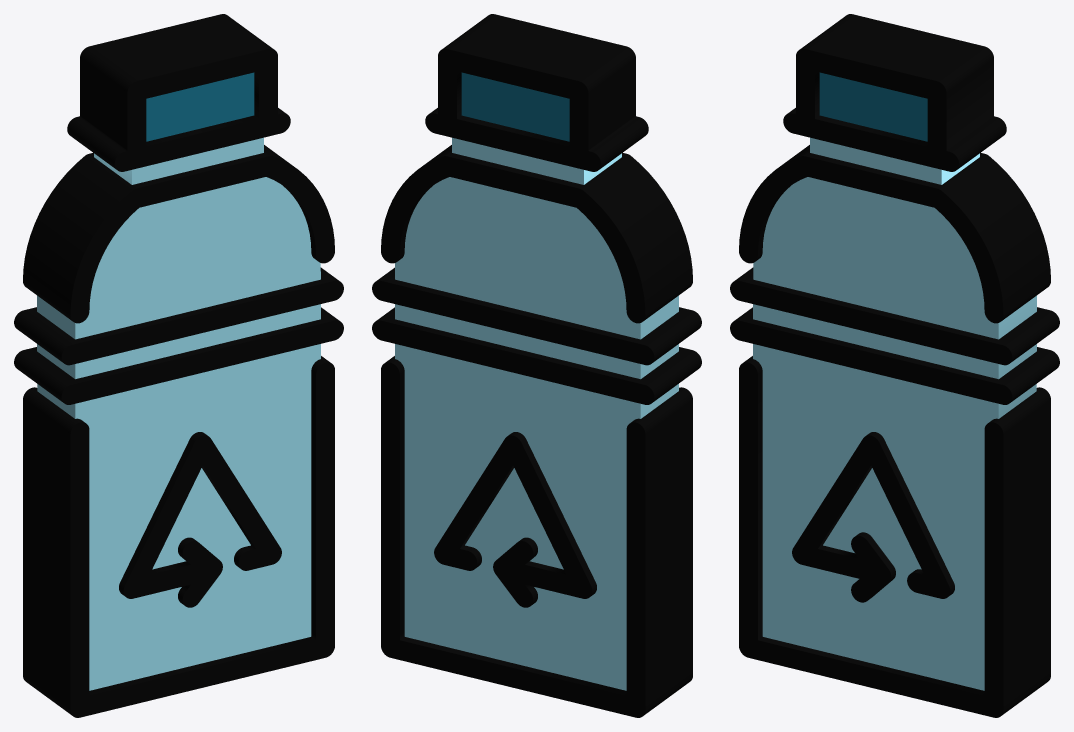
The model's file is Plastic Bottle.fbx.
3 views of the same model, side by side, from view 1: azimuth 30°, elevation 25°; view 2: azimuth 150°, elevation 25°; view 3: azimuth 330°, elevation 25° (orthographic).
Visible parts, largest first — view 1: Curve, Curve.002, Curve.006, Curve.003, Curve.007, Curve.005, Curve.004, Curve.001; view 2: Curve, Curve.002, Curve.006, Curve.003, Curve.007, Curve.005, Curve.004, Curve.001; view 3: Curve, Curve.002, Curve.006, Curve.003, Curve.007, Curve.005, Curve.004, Curve.001.
Boxes of the visible parts, x1,y1,x2,y2 form: Curve: [37, 137, 320, 690]; Curve.002: [23, 356, 334, 717]; Curve.006: [67, 14, 290, 171]; Curve.003: [23, 145, 334, 323]; Curve.007: [119, 432, 281, 607]; Curve.005: [14, 267, 343, 365]; Curve.004: [14, 307, 343, 404]; Curve.001: [146, 72, 254, 141]; Curve: [395, 137, 678, 690]; Curve.002: [381, 356, 692, 717]; Curve.006: [425, 14, 648, 171]; Curve.003: [381, 145, 692, 323]; Curve.007: [434, 432, 596, 607]; Curve.005: [372, 267, 701, 365]; Curve.004: [372, 307, 701, 404]; Curve.001: [461, 72, 569, 141]; Curve: [753, 137, 1036, 690]; Curve.002: [739, 356, 1050, 717]; Curve.006: [783, 14, 1006, 171]; Curve.003: [739, 145, 1050, 323]; Curve.007: [792, 432, 954, 602]; Curve.005: [730, 267, 1059, 365]; Curve.004: [730, 307, 1059, 404]; Curve.001: [819, 72, 927, 141].
Bounding box in the file's own units: 68.56 × 144 × 20.01.
